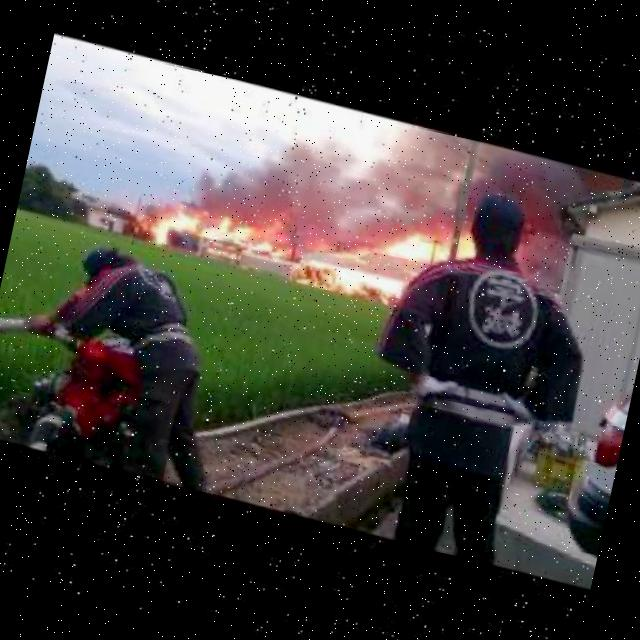fire: (141, 201, 299, 285), (291, 254, 412, 314), (379, 216, 480, 277), (330, 240, 373, 267)
